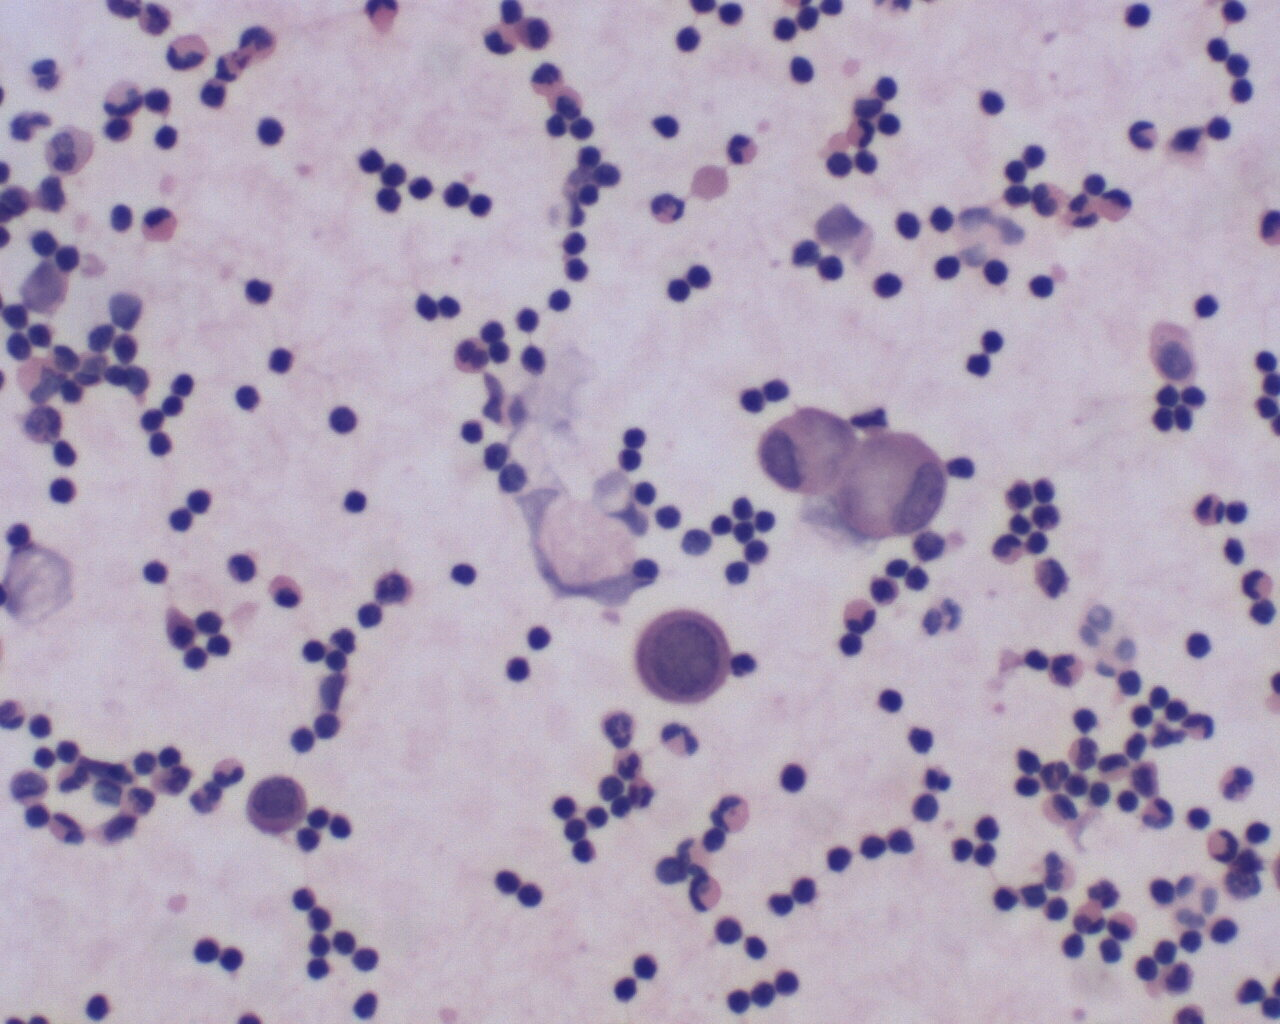ab: (632, 600, 734, 707), (245, 768, 306, 836)
histo: (844, 432, 942, 540), (760, 405, 857, 492)
lymph: (773, 757, 816, 797), (249, 113, 295, 150), (229, 374, 270, 414), (787, 54, 825, 93), (240, 270, 278, 309), (970, 80, 1007, 120), (489, 861, 525, 903), (327, 401, 365, 439), (1026, 269, 1060, 307), (399, 170, 439, 203), (871, 269, 908, 302), (339, 488, 373, 522), (908, 788, 941, 823), (1189, 288, 1227, 320), (140, 556, 174, 589), (543, 284, 576, 320), (876, 681, 907, 715), (502, 653, 533, 686), (288, 722, 318, 758), (631, 952, 660, 985), (1185, 631, 1216, 661), (48, 475, 79, 505), (685, 259, 715, 289)
neutro: (718, 134, 767, 170), (1202, 822, 1244, 863), (1045, 647, 1086, 689), (1140, 793, 1179, 832), (1124, 118, 1163, 156), (1236, 563, 1276, 596), (611, 750, 645, 779)
